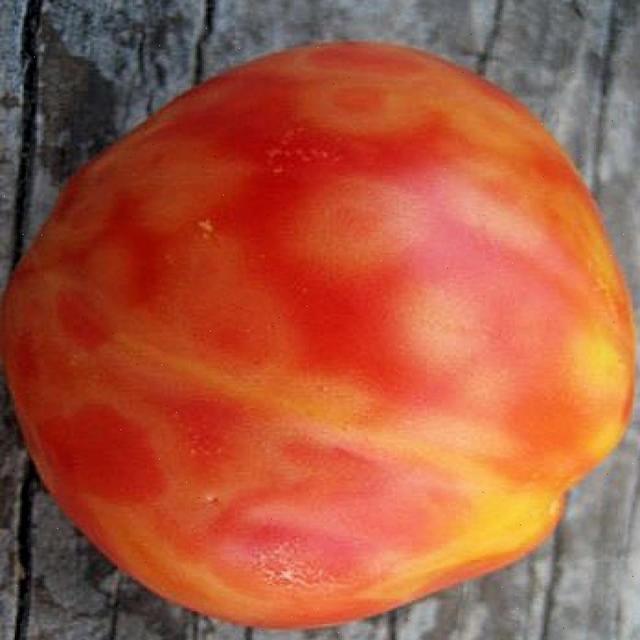Spotted wilt Virus Fruit: (0, 28, 419, 416)
